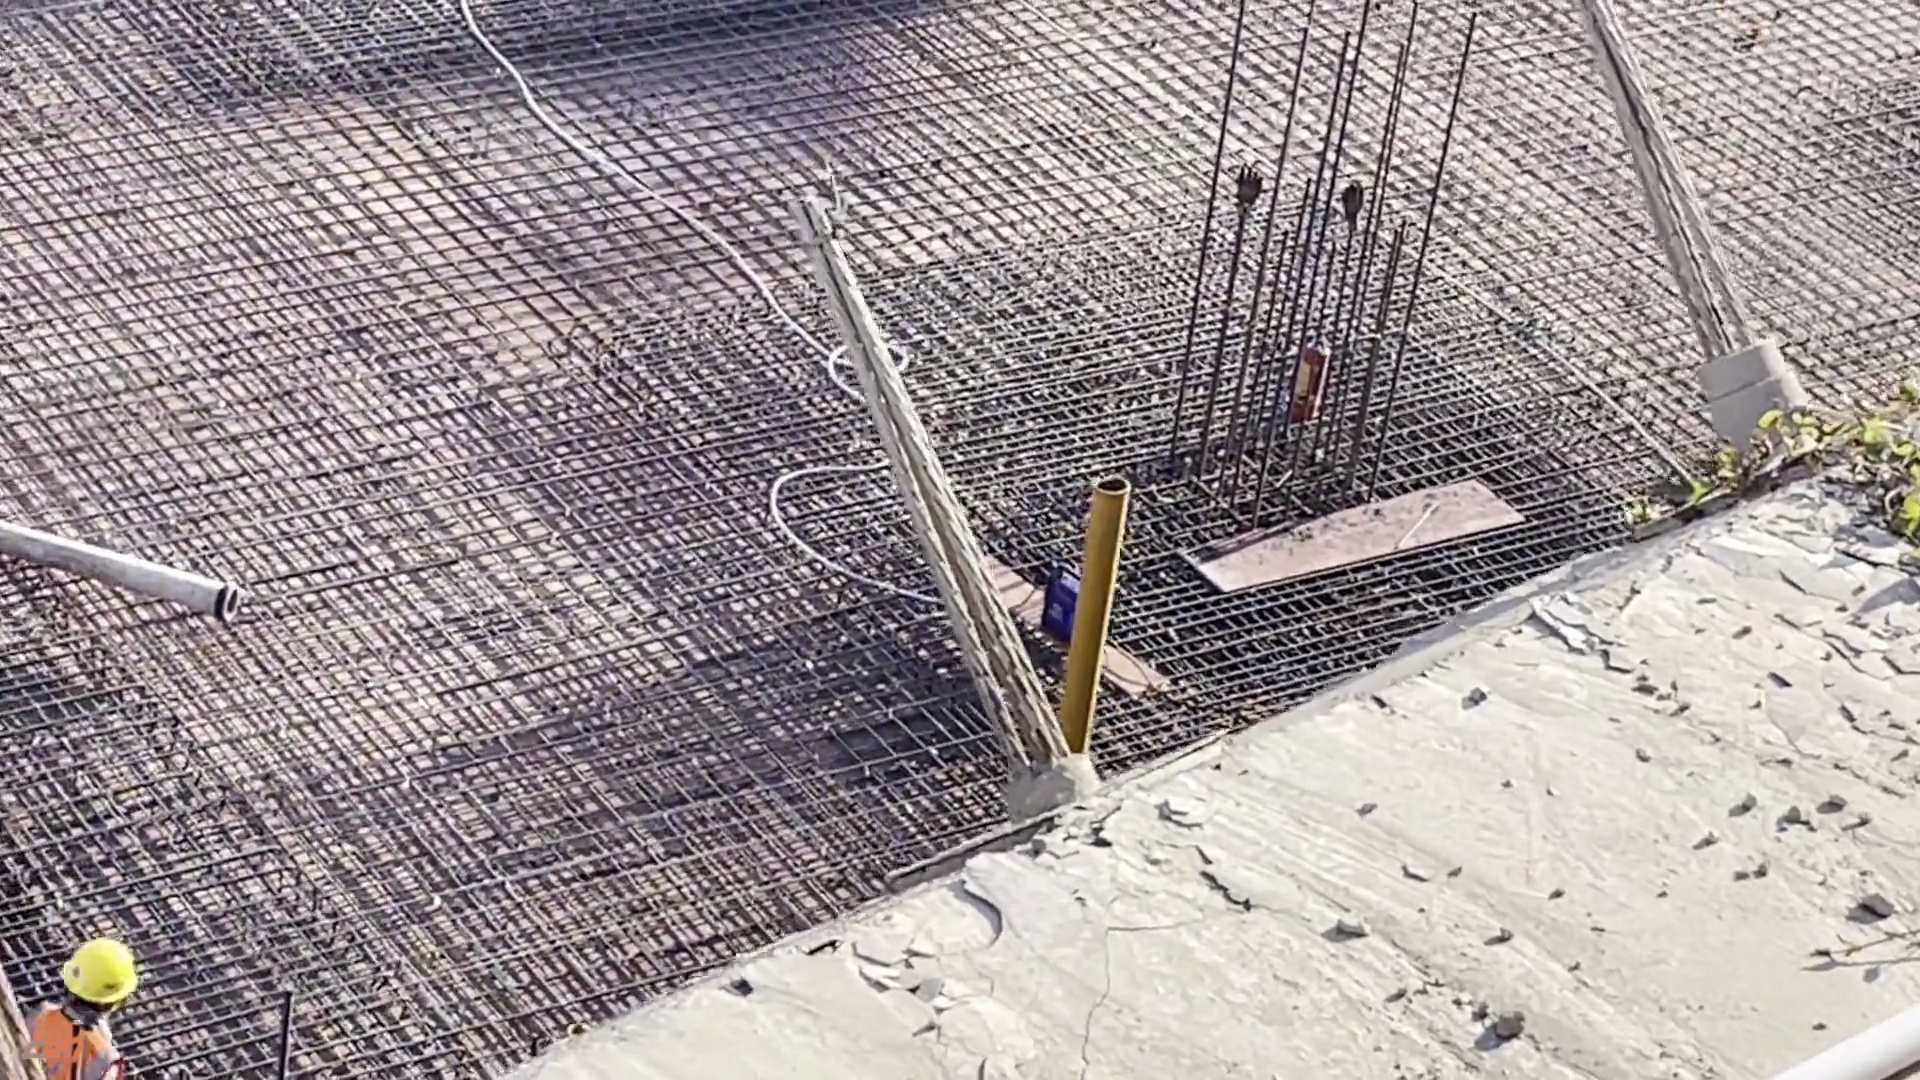helmet: (63, 939, 135, 1004)
person: (9, 936, 146, 1080)
vest: (23, 1012, 104, 1080)
